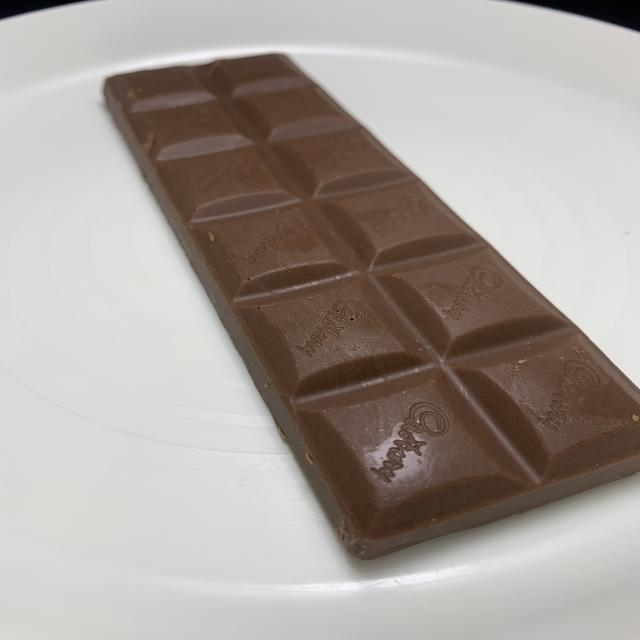Chocolate: (99, 49, 640, 560)
